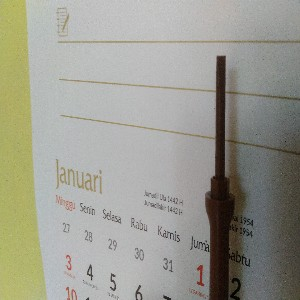obeng: (204, 53, 236, 300)
